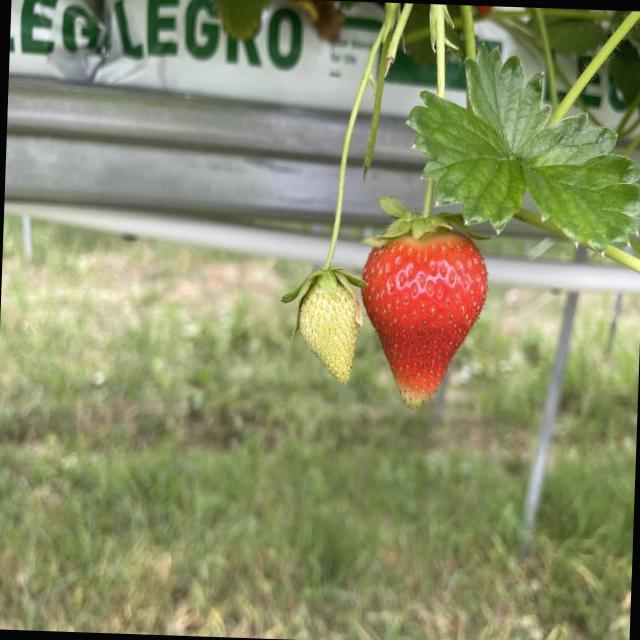stem: (327, 19, 388, 254), (372, 180, 468, 246), (283, 255, 359, 299), (430, 4, 447, 95)
strawberryNR: (299, 283, 359, 382)
strawberryR: (363, 232, 486, 404)
